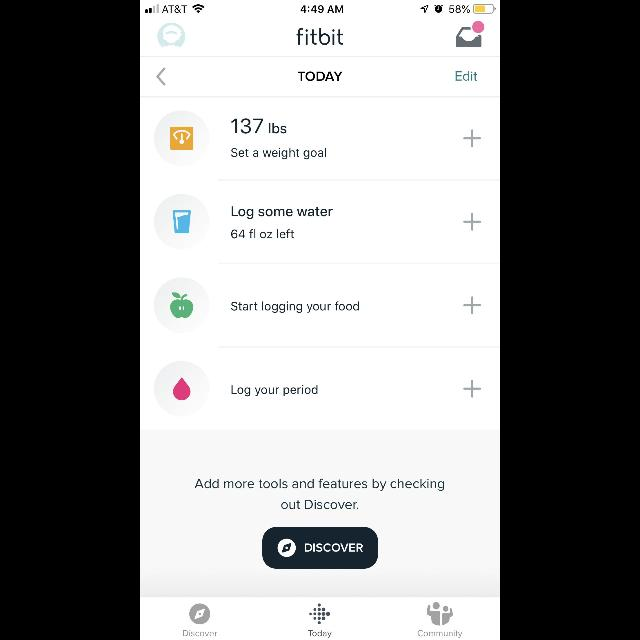icon: (190, 604, 210, 624), (463, 129, 481, 147), (463, 213, 481, 231), (463, 297, 481, 315), (463, 380, 481, 398), (157, 67, 167, 87)
image: (154, 193, 210, 250), (154, 111, 210, 167), (154, 278, 210, 334), (154, 361, 210, 417), (455, 21, 485, 47), (158, 23, 185, 49), (426, 602, 454, 626), (310, 604, 330, 624)
text: (194, 478, 443, 509), (231, 301, 359, 313), (232, 207, 332, 220), (232, 148, 326, 160), (296, 28, 344, 46), (232, 118, 286, 134), (232, 386, 318, 396), (232, 230, 294, 238), (298, 71, 342, 81), (418, 630, 462, 638), (455, 71, 477, 81), (182, 630, 218, 636), (308, 630, 332, 638)
textbutton: (262, 527, 378, 569)
uppertaskbar: (140, 0, 500, 14)
